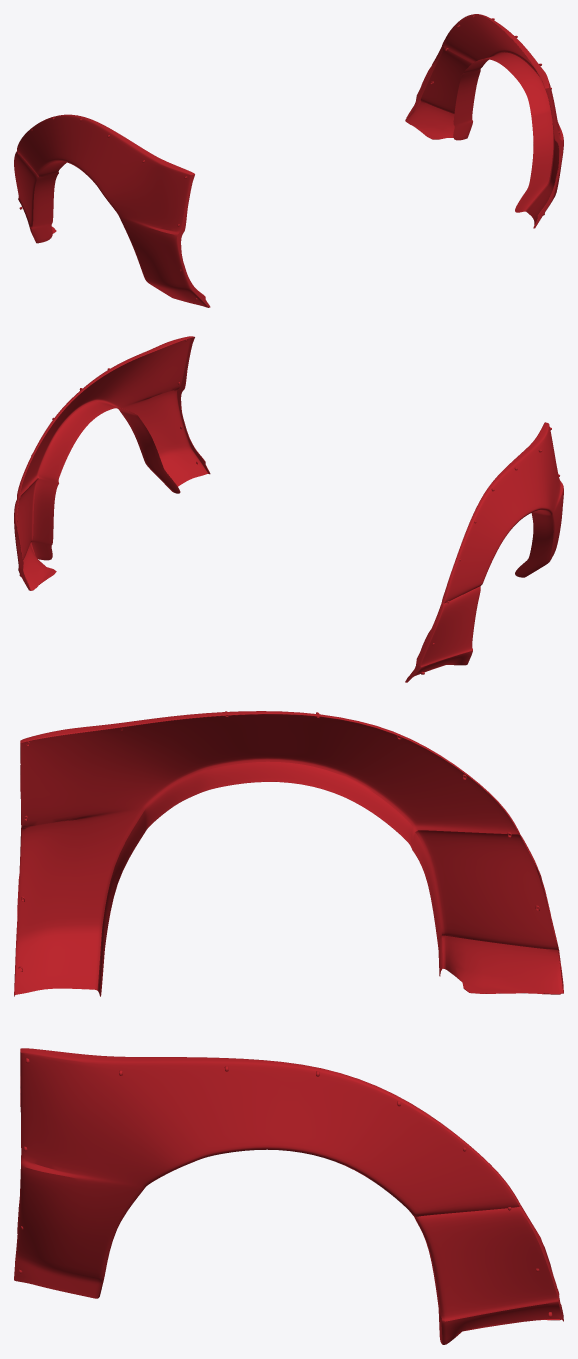
3 renders of one model, top to bottom at view 1: azimuth 30°, elevation 25°; view 2: azimuth 150°, elevation 25°; view 3: azimuth 270°, elevation 25°, orthographic. The views are drawn at different scales.
Visible parts, largest first — view 1: Miata_Aero_RearFlareAK; view 2: Miata_Aero_RearFlareAK; view 3: Miata_Aero_RearFlareAK.
Boxes of the visible parts, x1,y1,x2,y2 form: Miata_Aero_RearFlareAK: (14, 14, 563, 307); Miata_Aero_RearFlareAK: (14, 336, 563, 682); Miata_Aero_RearFlareAK: (14, 711, 563, 1344).
Bounding box in the file's own units: 70.9 × 22.95 × 42.26.
